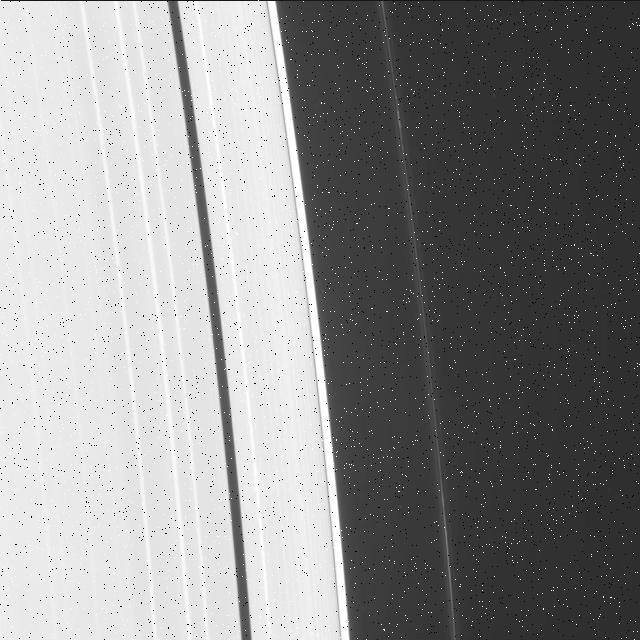Saturn: (0, 0, 467, 640)
